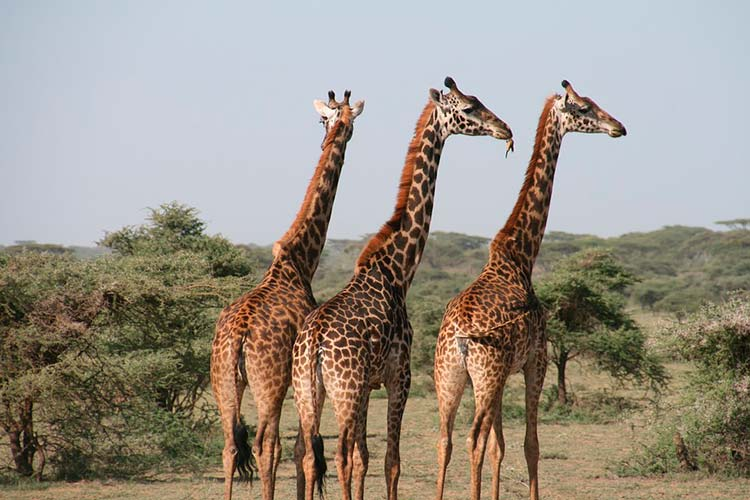Jirafa: (404, 68, 522, 185), (534, 68, 641, 175), (297, 78, 381, 162)
